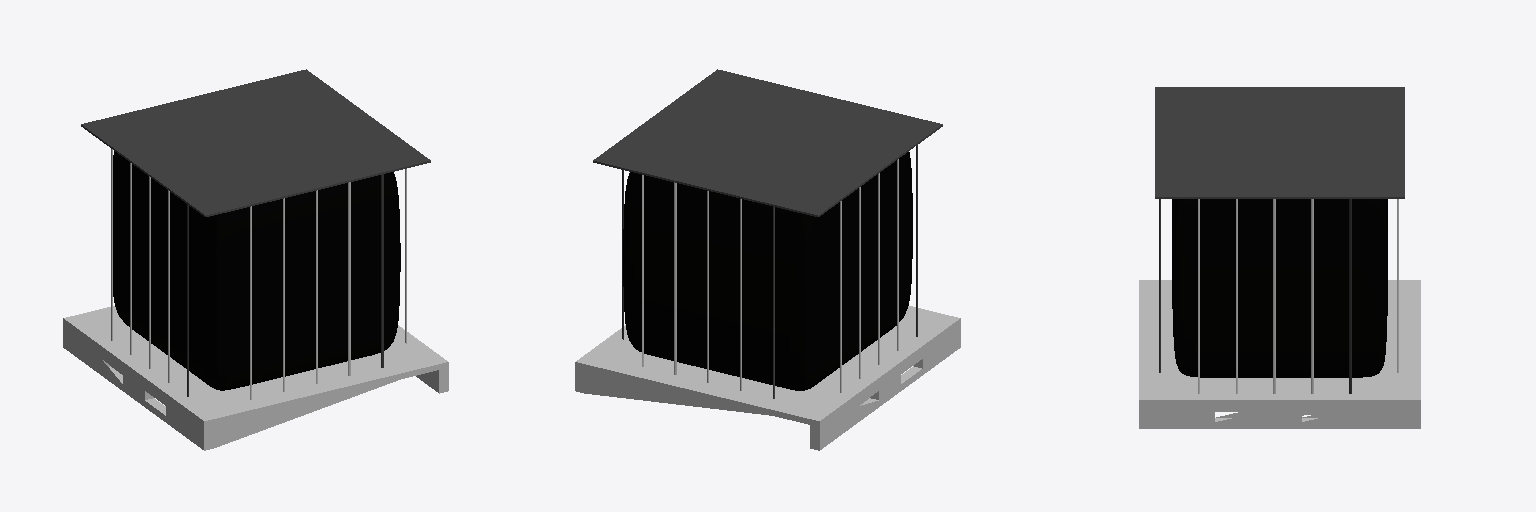
Rendered from main-tank.obj.
The picture shows the model from 3 angles: view 1: azimuth 30°, elevation 25°; view 2: azimuth 150°, elevation 25°; view 3: azimuth 270°, elevation 25°; orthographic projection.
Parts seen in each view (by area): view 1: vissie_container_Cube.004, railing-top_Cube.005, base_Cube.002, Cylinder.015_Cylinder.020, Cylinder.019_Cylinder.024; view 2: vissie_container_Cube.004, railing-top_Cube.005, base_Cube.002, Cylinder.009; view 3: vissie_container_Cube.004, railing-top_Cube.005, base_Cube.002, Cylinder.001, Cylinder.002, Cylinder.003.
Part boxes in pixels (bbox=[...]): vissie_container_Cube.004: bbox=[113, 151, 400, 390]; railing-top_Cube.005: bbox=[81, 69, 430, 216]; base_Cube.002: bbox=[63, 306, 448, 450]; Cylinder.015_Cylinder.020: bbox=[381, 174, 383, 367]; Cylinder.019_Cylinder.024: bbox=[348, 182, 350, 375]; vissie_container_Cube.004: bbox=[623, 152, 912, 390]; railing-top_Cube.005: bbox=[593, 69, 942, 216]; base_Cube.002: bbox=[575, 306, 960, 450]; Cylinder.009: bbox=[674, 182, 676, 374]; vissie_container_Cube.004: bbox=[1172, 199, 1387, 377]; railing-top_Cube.005: bbox=[1155, 87, 1404, 198]; base_Cube.002: bbox=[1139, 280, 1420, 428]; Cylinder.001: bbox=[1349, 199, 1351, 393]; Cylinder.002: bbox=[1311, 199, 1313, 393]; Cylinder.003: bbox=[1273, 199, 1275, 393].
Size of the model in its own units: 2.6 by 2.31 by 2.6.